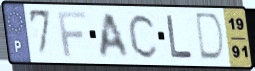7: (28, 7, 53, 60)
A: (98, 11, 132, 60)
C: (126, 11, 160, 60)
D: (195, 11, 227, 64)
F: (56, 10, 87, 59)
L: (164, 13, 195, 60)
